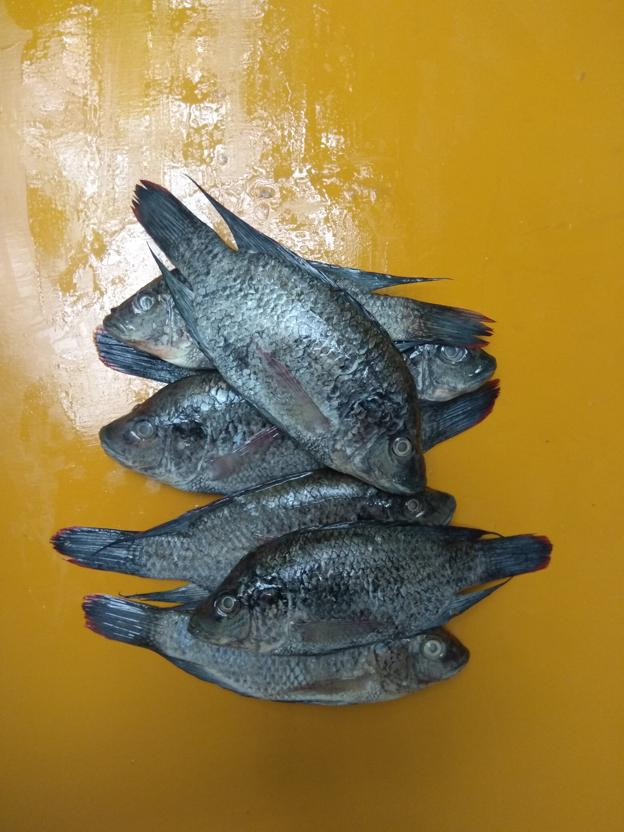Fish head: (97, 378, 224, 492), (329, 392, 429, 498), (187, 563, 295, 653), (101, 267, 200, 362), (379, 624, 469, 701), (398, 342, 498, 405), (361, 488, 460, 527)
Fish tail: (129, 174, 225, 259), (46, 523, 158, 581), (422, 377, 503, 450), (79, 590, 168, 653), (401, 295, 498, 348), (478, 531, 556, 577)
